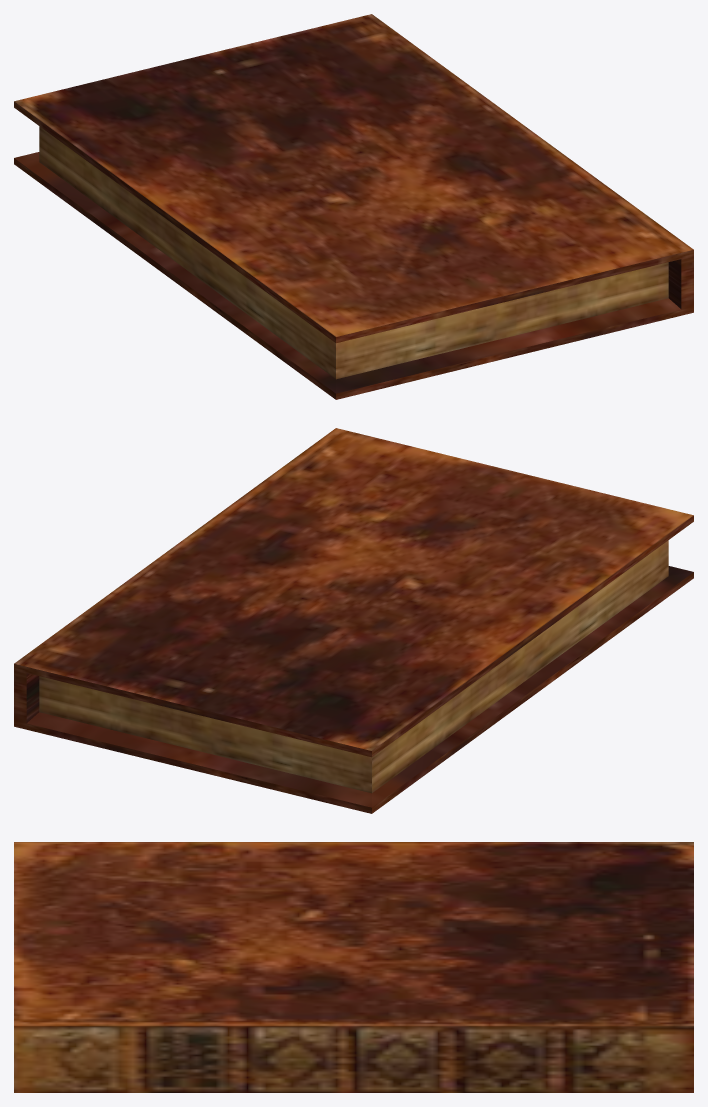
Rendered from old_book.glb.
3 renders of one model, top to bottom at view 1: azimuth 30°, elevation 25°; view 2: azimuth 150°, elevation 25°; view 3: azimuth 270°, elevation 25°, orthographic. The views are drawn at different scales.
Visible parts, largest first — view 1: Object_4; view 2: Object_4; view 3: Object_4.
Part boxes in pixels (x1,y1,x2,y2): Object_4: (14,14,693,399); Object_4: (14,428,693,813); Object_4: (14,842,693,1092).
Size of the model in its own units: 2 by 0.3359 by 3.12.
Materials: 1 (1 with a texture image).
